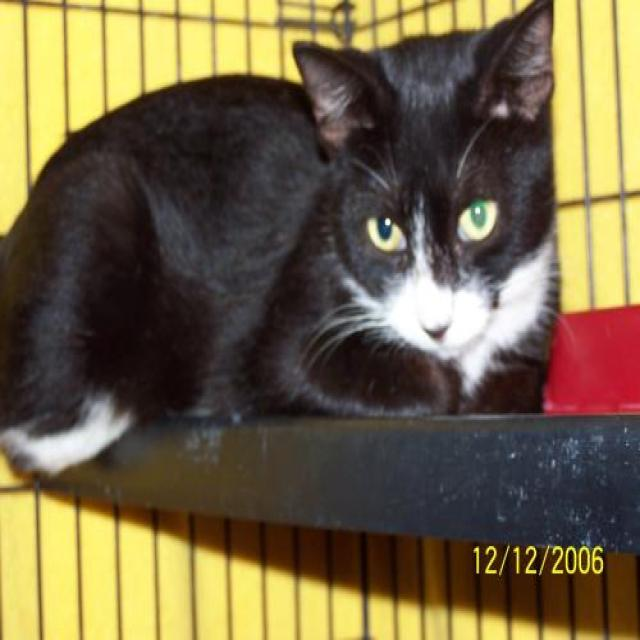Cats: (0, 0, 564, 479)
